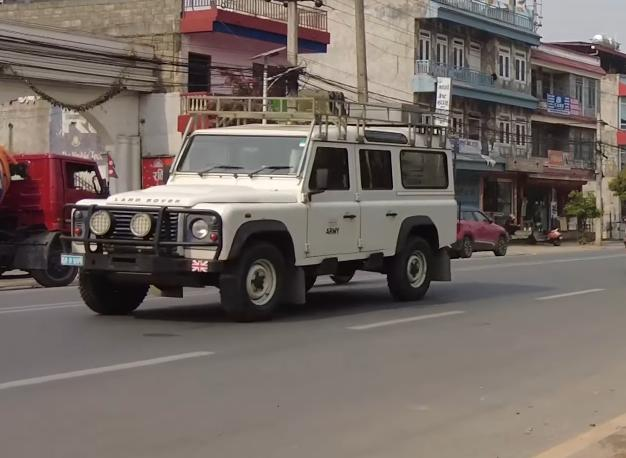SUV: (65, 91, 457, 321)
car: (446, 201, 515, 259)
mini_truck: (0, 140, 109, 292)
